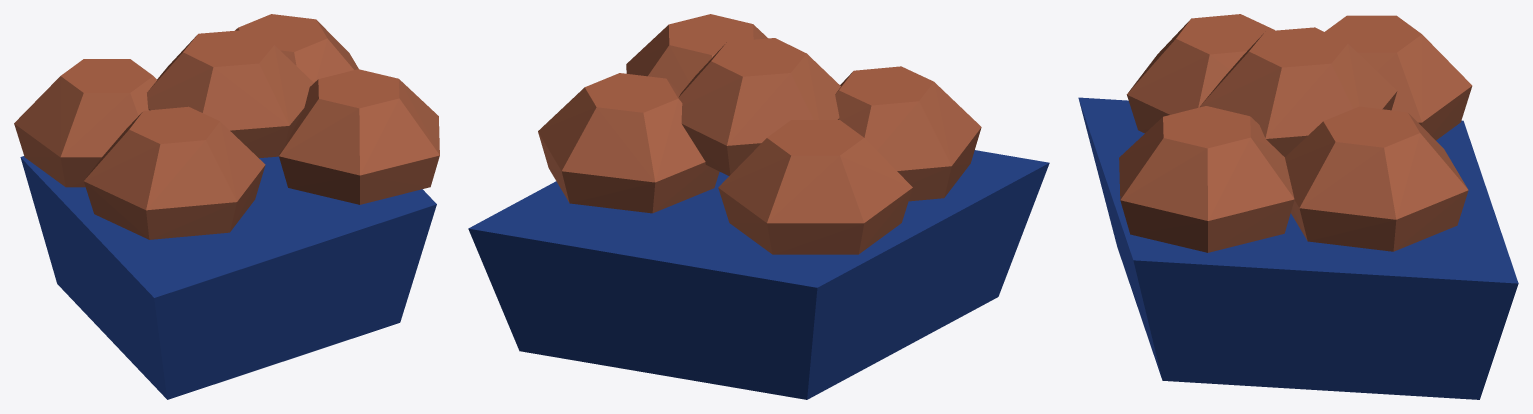
File: g-mushrooms.glb
3 views of the same model, side by side, from view 1: azimuth 30°, elevation 25°; view 2: azimuth 150°, elevation 25°; view 3: azimuth 270°, elevation 25° (orthographic). The views are drawn at different scales.
Visible parts, largest first — view 1: g_mushrooms; view 2: g_mushrooms; view 3: g_mushrooms.
Part boxes in pixels (bbox=[...]): g_mushrooms: bbox=[14, 14, 439, 399]; g_mushrooms: bbox=[468, 14, 1049, 399]; g_mushrooms: bbox=[1078, 14, 1518, 399].
Size of the model in its own units: 0.1202 by 0.0831 by 0.1202.
